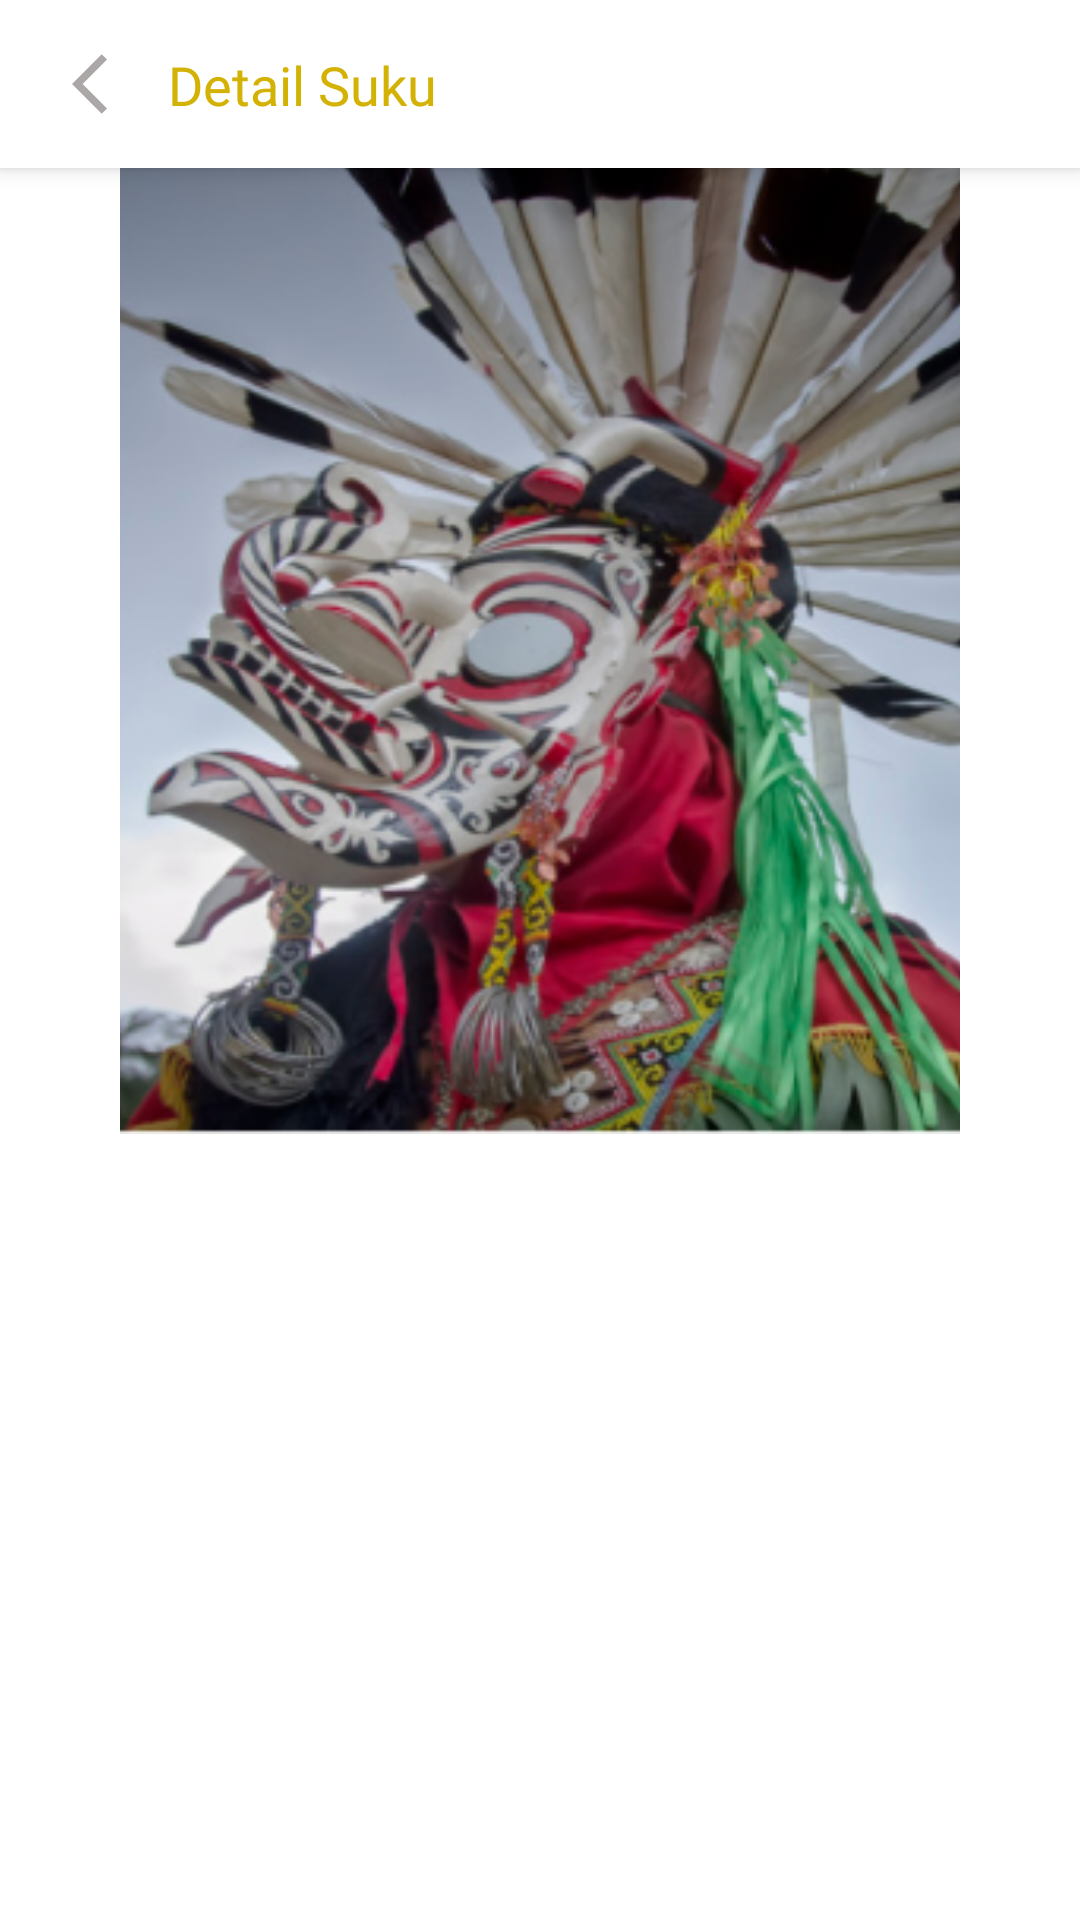

Named icons in this screenshot (1080×1920) and their centers, (x,y):
arrow back: (89,84)
